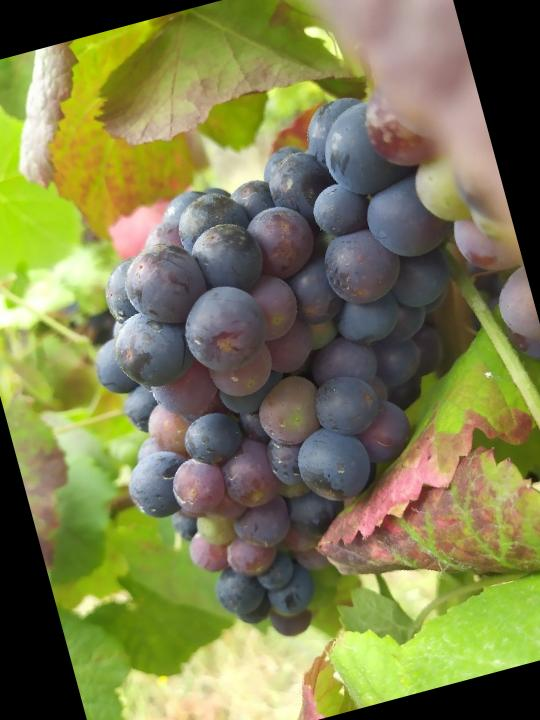grape: (36, 81, 540, 670)
